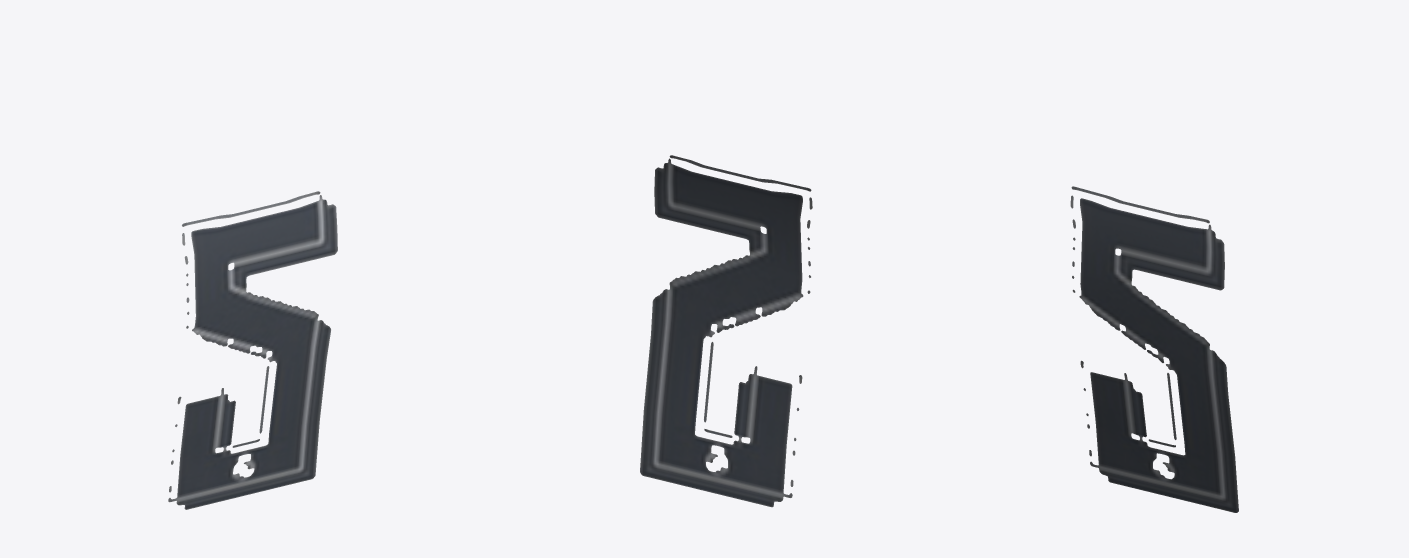
3 views of the same model, side by side, from view 1: azimuth 30°, elevation 25°; view 2: azimuth 150°, elevation 25°; view 3: azimuth 330°, elevation 25° (orthographic). The views are drawn at different scales.
Parts seen in each view (by area): view 1: 05; view 2: 05; view 3: 05.
Part boxes in pixels (box(x1,y1,x2,y2)): 05: box(168, 191, 337, 509); 05: box(640, 155, 812, 507); 05: box(1070, 186, 1238, 512).
Size of the model in its own units: 31.82 by 32.16 by 4.03.
